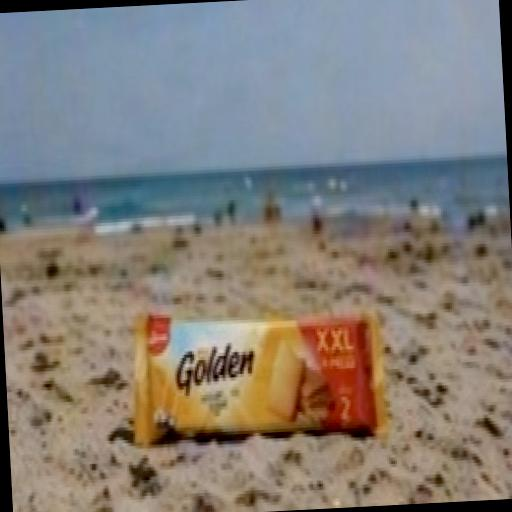golden: (88, 258, 450, 504)
